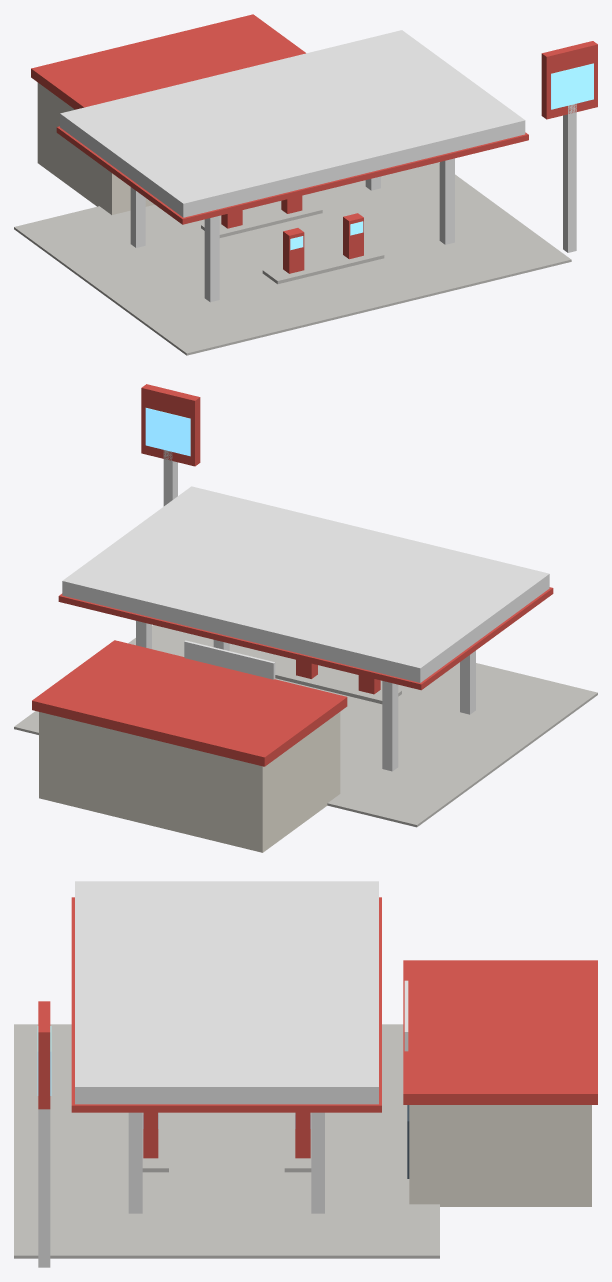
The model's file is gas_station.glb.
3 renders of one model, top to bottom at view 1: azimuth 30°, elevation 25°; view 2: azimuth 150°, elevation 25°; view 3: azimuth 270°, elevation 25°, orthographic. The views are drawn at different scales.
Parts seen in each view (by area): view 1: gas_station; view 2: gas_station; view 3: gas_station.
Part boxes in pixels (left/top/right/bottom): gas_station: left=14, top=14, right=597, bottom=355; gas_station: left=14, top=384, right=597, bottom=852; gas_station: left=14, top=881, right=597, bottom=1267.
Bounding box in the file's own units: 19.7 × 9.01 × 19.2.
